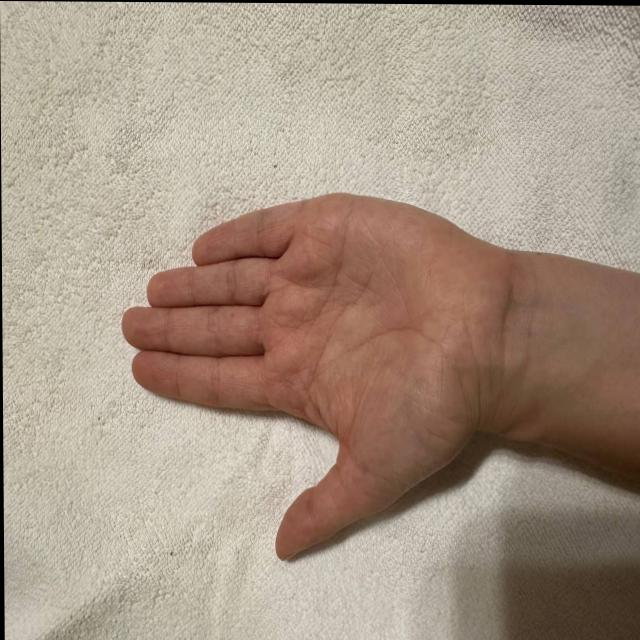v: (104, 163, 523, 594)
